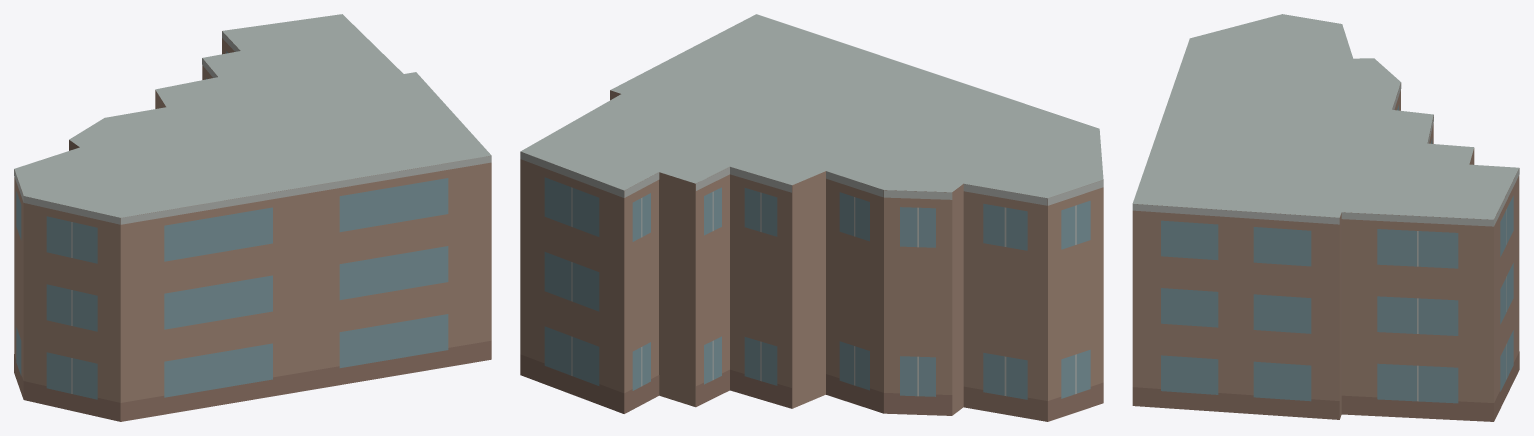
File: survey-upis-32508781.glb
3 renders of one model, left to right at view 1: azimuth 30°, elevation 25°; view 2: azimuth 150°, elevation 25°; view 3: azimuth 270°, elevation 25°, orthographic. The views are drawn at different scales.
Parts seen in each view (by area): view 1: survey-upis-32508781.tmp; view 2: survey-upis-32508781.tmp; view 3: survey-upis-32508781.tmp.
Boxes of the visible parts, bbox=[...] form: survey-upis-32508781.tmp: bbox=[14, 14, 491, 421]; survey-upis-32508781.tmp: bbox=[520, 14, 1103, 421]; survey-upis-32508781.tmp: bbox=[1132, 14, 1519, 421].
Size of the model in its own units: 15.72 by 7.2 by 12.5.
